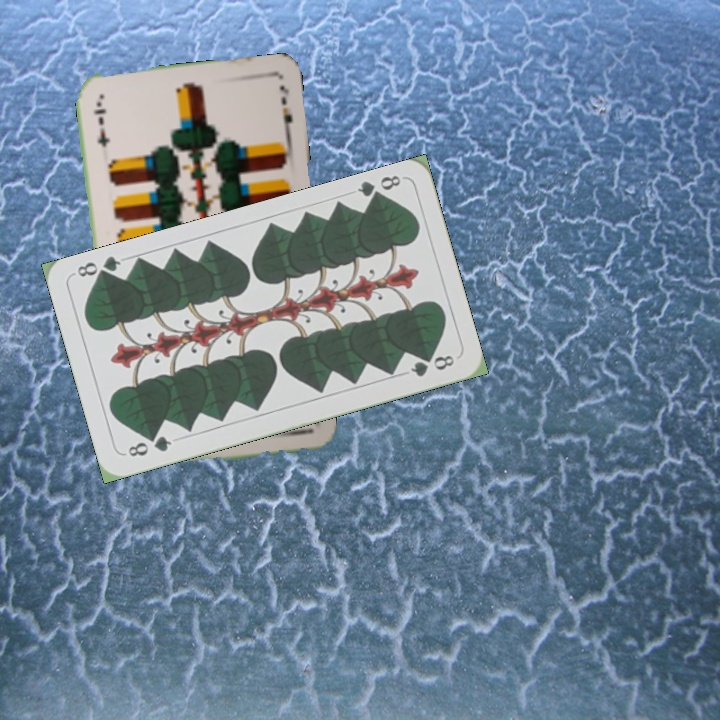E7: (89, 97, 112, 150)
G8: (353, 171, 403, 205), (123, 432, 175, 460)
